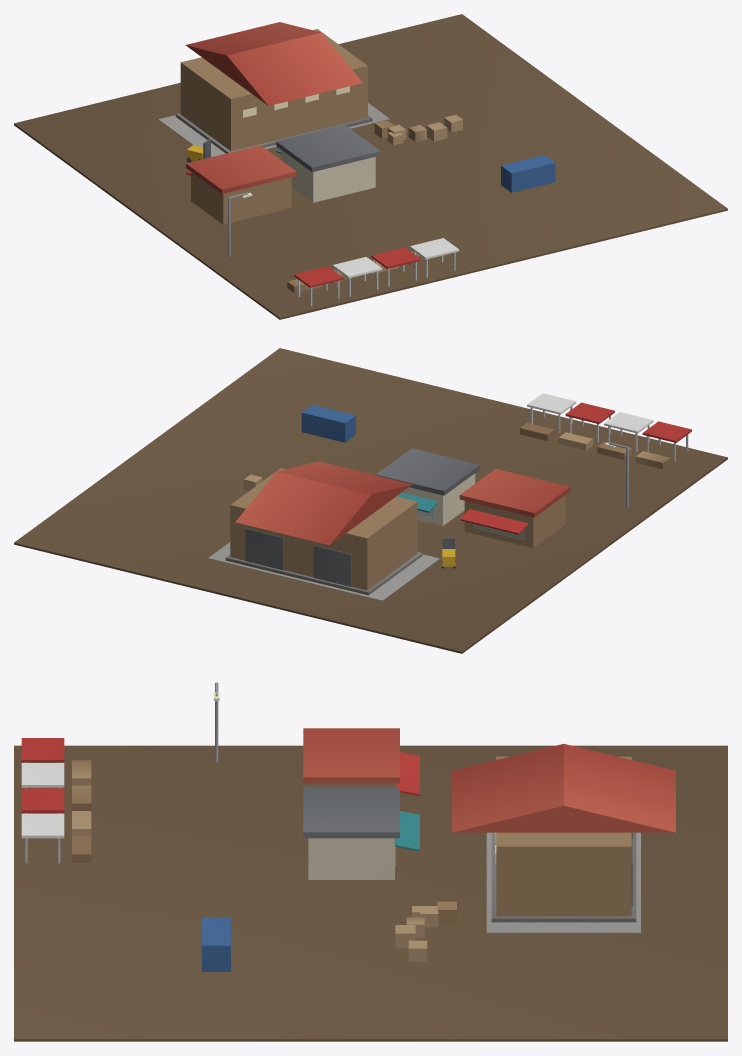
File: Market_P1.fbx
3 views of the same model, one above another, from view 1: azimuth 30°, elevation 25°; view 2: azimuth 150°, elevation 25°; view 3: azimuth 270°, elevation 25° (orthographic). The views are drawn at different scales.
Visible parts, largest first — view 1: Market.Pad, Market.WH1, Market.Shop0, Market.Shop1, Market.Stalls, Market.Goods; view 2: Market.Pad, Market.WH1, Market.Shop0, Market.Stalls, Market.Shop1, Market.Goods; view 3: Market.Pad, Market.WH1, Market.Shop1, Market.Stalls, Market.Shop0, Market.Goods.
Boxes of the visible parts, box(x1,y1,x2,y2) form: Market.Pad: box(14, 14, 727, 319); Market.WH1: box(175, 22, 372, 153); Market.Shop0: box(186, 145, 296, 224); Market.Shop1: box(276, 125, 380, 202); Market.Stalls: box(287, 238, 459, 305); Market.Goods: box(374, 115, 555, 192); Market.Pad: box(14, 348, 727, 653); Market.WH1: box(225, 461, 422, 595); Market.Shop0: box(459, 469, 570, 547); Market.Stalls: box(520, 393, 691, 469); Market.Shop1: box(375, 448, 480, 526); Market.Goods: box(244, 405, 355, 490); Market.Pad: box(14, 745, 727, 1041); Market.WH1: box(452, 744, 675, 922); Market.Shop1: box(303, 787, 419, 879); Market.Stalls: box(21, 738, 91, 863); Market.Shop0: box(303, 728, 419, 796); Market.Goods: box(202, 901, 456, 971).
Size of the model in its own units: 7200 by 1189 by 7400.
